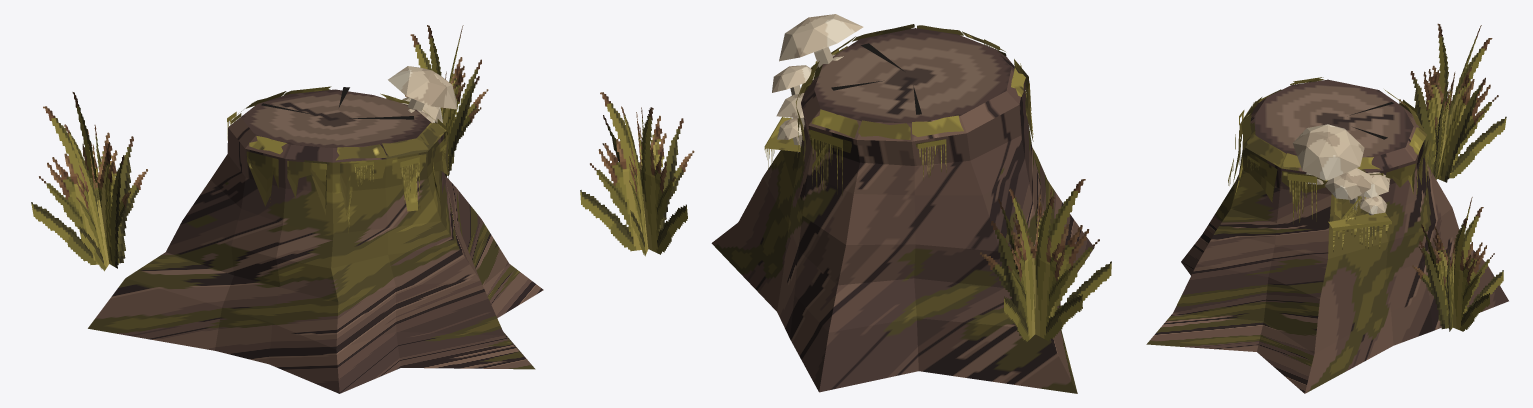
File: SM_SW12_StumpLowClosed.fbx
The picture shows the model from 3 angles, left to right: view 1: azimuth 30°, elevation 25°; view 2: azimuth 150°, elevation 25°; view 3: azimuth 270°, elevation 25°; orthographic projection. The views are drawn at different scales.
Parts seen in each view (by area): view 1: SW12a_Bark, SW12a_Plants, SW12a_Props, SW12a_Moss, SW12a_Fungus; view 2: SW12a_Bark, SW12a_Plants, SW12a_Props, SW12a_Moss, SW12a_Fungus; view 3: SW12a_Bark, SW12a_Plants, SW12a_Props, SW12a_Fungus, SW12a_Moss.
Boxes of the visible parts, x1=… form: SW12a_Bark: x1=88, y1=117, x2=543, y2=393; SW12a_Plants: x1=31, y1=25, x2=488, y2=271; SW12a_Props: x1=241, y1=87, x2=430, y2=147; SW12a_Moss: x1=231, y1=86, x2=448, y2=215; SW12a_Fungus: x1=388, y1=66, x2=456, y2=123; SW12a_Bark: x1=711, y1=50, x2=1094, y2=393; SW12a_Plants: x1=580, y1=39, x2=1111, y2=341; SW12a_Props: x1=814, y1=28, x2=1011, y2=123; SW12a_Moss: x1=765, y1=24, x2=1033, y2=166; SW12a_Fungus: x1=772, y1=14, x2=863, y2=152; SW12a_Bark: x1=1146, y1=97, x2=1508, y2=393; SW12a_Plants: x1=1228, y1=23, x2=1506, y2=331; SW12a_Props: x1=1254, y1=79, x2=1413, y2=157; SW12a_Fungus: x1=1292, y1=124, x2=1390, y2=215; SW12a_Moss: x1=1233, y1=77, x2=1428, y2=228.
Bounding box in the file's own units: 1.58 × 0.7792 × 1.22.
